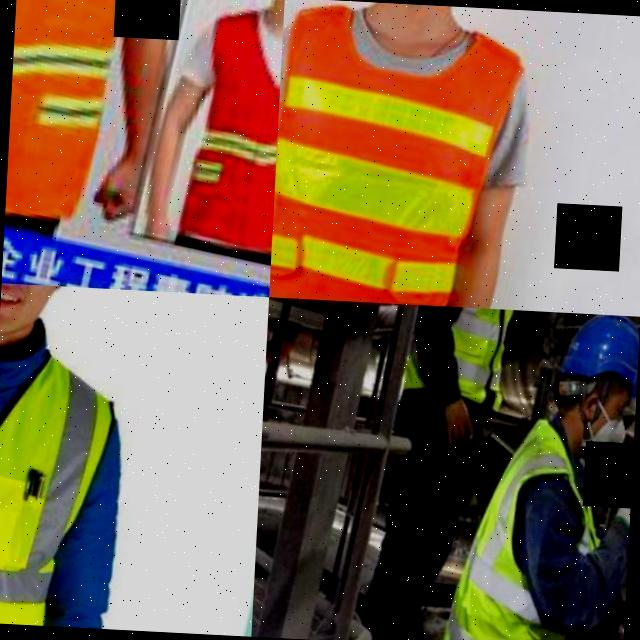vest: (269, 0, 526, 310), (439, 417, 632, 640), (0, 317, 120, 629), (155, 0, 284, 272), (5, 0, 156, 232), (416, 305, 550, 419)
